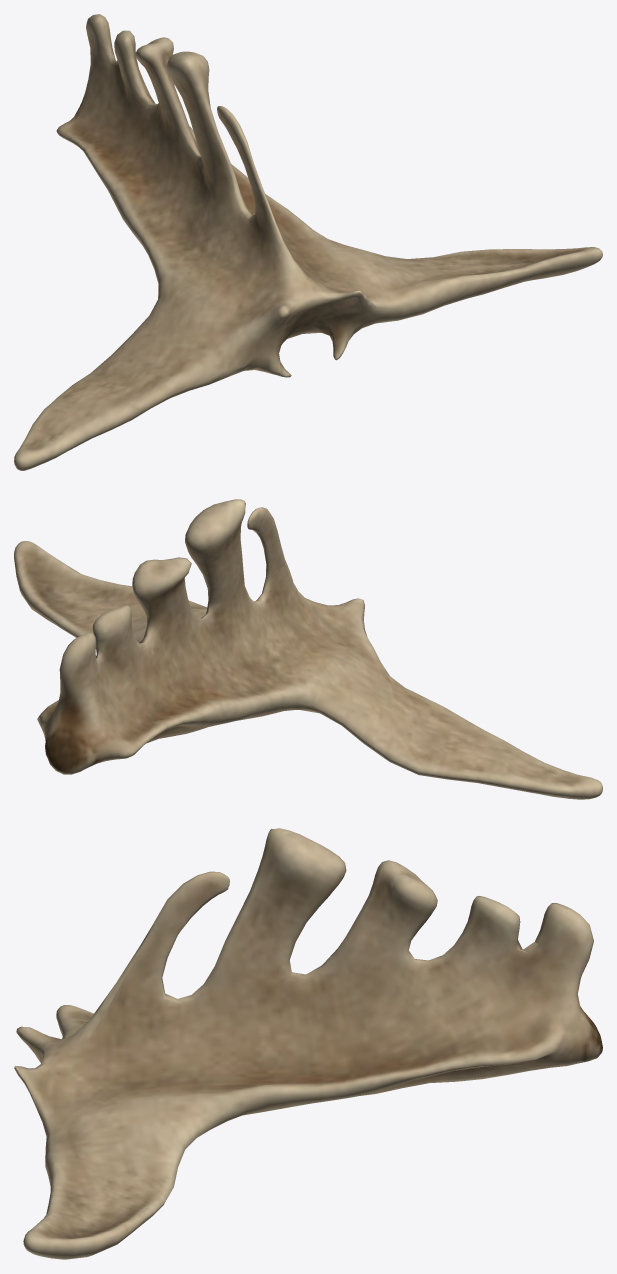
File: Sacral_Vertebrae.glb
3 renders of one model, top to bottom at view 1: azimuth 30°, elevation 25°; view 2: azimuth 150°, elevation 25°; view 3: azimuth 270°, elevation 25°, orthographic. The views are drawn at different scales.
Visible parts, largest first — view 1: Sacral_Vertebrae; view 2: Sacral_Vertebrae; view 3: Sacral_Vertebrae.
Part boxes in pixels (bbox=[...]): Sacral_Vertebrae: bbox=[14, 14, 602, 470]; Sacral_Vertebrae: bbox=[14, 499, 602, 799]; Sacral_Vertebrae: bbox=[14, 828, 602, 1259].
Bounding box in the file's own units: 0.2951 × 0.1415 × 0.2191.
Materials: 1 (1 with a texture image).
